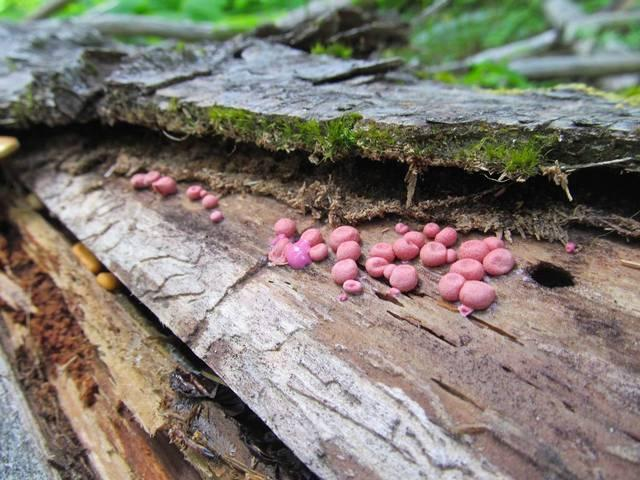poisonous_mushroom: (266, 215, 516, 315), (457, 279, 496, 311), (388, 262, 418, 292), (482, 247, 514, 275), (283, 240, 311, 269), (437, 271, 464, 301), (95, 270, 117, 290)
